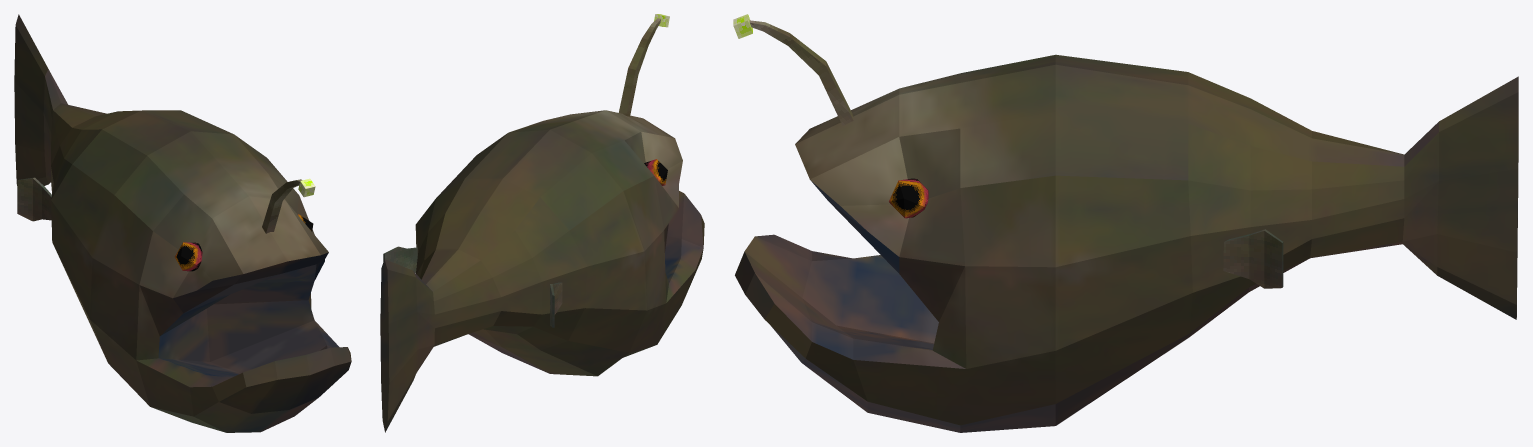
The model's file is AnglerFish.fbx.
3 renders of one model, left to right at view 1: azimuth 30°, elevation 25°; view 2: azimuth 150°, elevation 25°; view 3: azimuth 270°, elevation 25°, orthographic. The views are drawn at different scales.
Visible parts, largest first — view 1: Angler_Body, Angler_Fins, Angler_Light, Angler_Eyes; view 2: Angler_Body, Angler_Light, Angler_Fins, Angler_Eyes; view 3: Angler_Body, Angler_Fins, Angler_Light, Angler_Eyes.
Boxes of the visible parts, x1,y1,x2,y2 form: Angler_Body: (14, 14, 351, 432); Angler_Fins: (17, 177, 51, 221); Angler_Light: (262, 178, 315, 233); Angler_Eyes: (175, 214, 313, 271); Angler_Body: (380, 110, 704, 432); Angler_Light: (618, 14, 669, 116); Angler_Fins: (383, 246, 562, 327); Angler_Eyes: (644, 159, 667, 185); Angler_Body: (735, 54, 1518, 432); Angler_Fins: (1223, 229, 1283, 288); Angler_Light: (733, 14, 853, 125); Angler_Eyes: (889, 178, 928, 218).
Bounding box in the file's own units: 0.6842 × 0.9702 × 1.71.
Materials: 4 (4 with a texture image).
